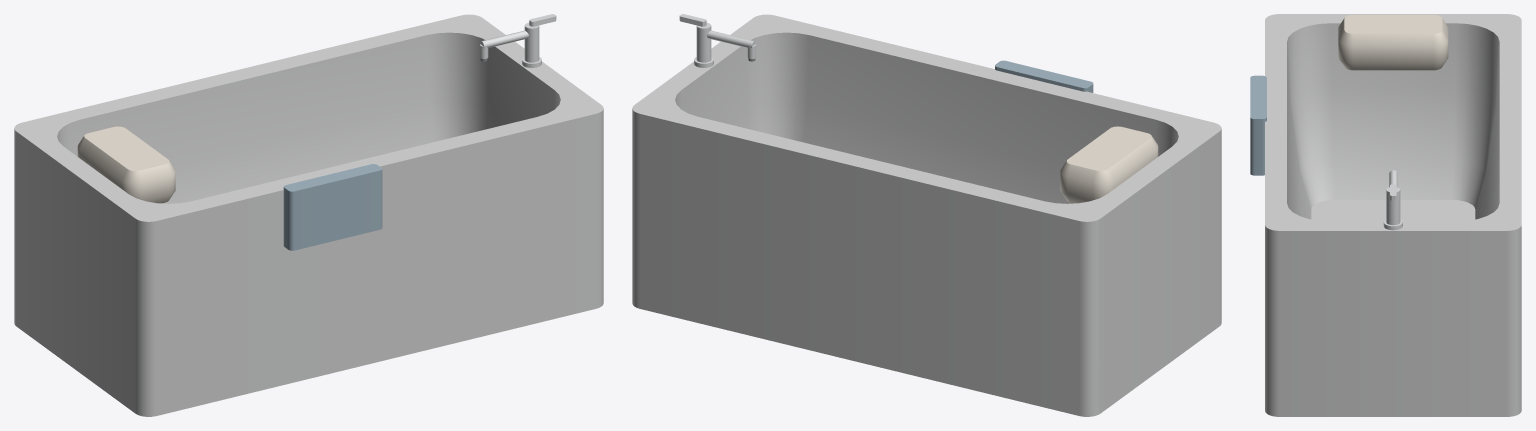
The picture shows the model from 3 angles, left to right: view 1: azimuth 30°, elevation 25°; view 2: azimuth 150°, elevation 25°; view 3: azimuth 270°, elevation 25°; orthographic projection. The views are drawn at different scales.
Visible parts, largest first — view 1: Bồn tắm Dài bồn=1400; Rộng bồn=700; view 2: Bồn tắm Dài bồn=1400; Rộng bồn=700; view 3: Bồn tắm Dài bồn=1400; Rộng bồn=700.
Boxes of the visible parts, x1,y1,x2,y2 form: Bồn tắm Dài bồn=1400; Rộng bồn=700: (14,14,603,416); Bồn tắm Dài bồn=1400; Rộng bồn=700: (632,14,1221,416); Bồn tắm Dài bồn=1400; Rộng bồn=700: (1250,14,1521,416).
Bounding box in the file's own units: 1.44 × 0.684 × 0.74.
